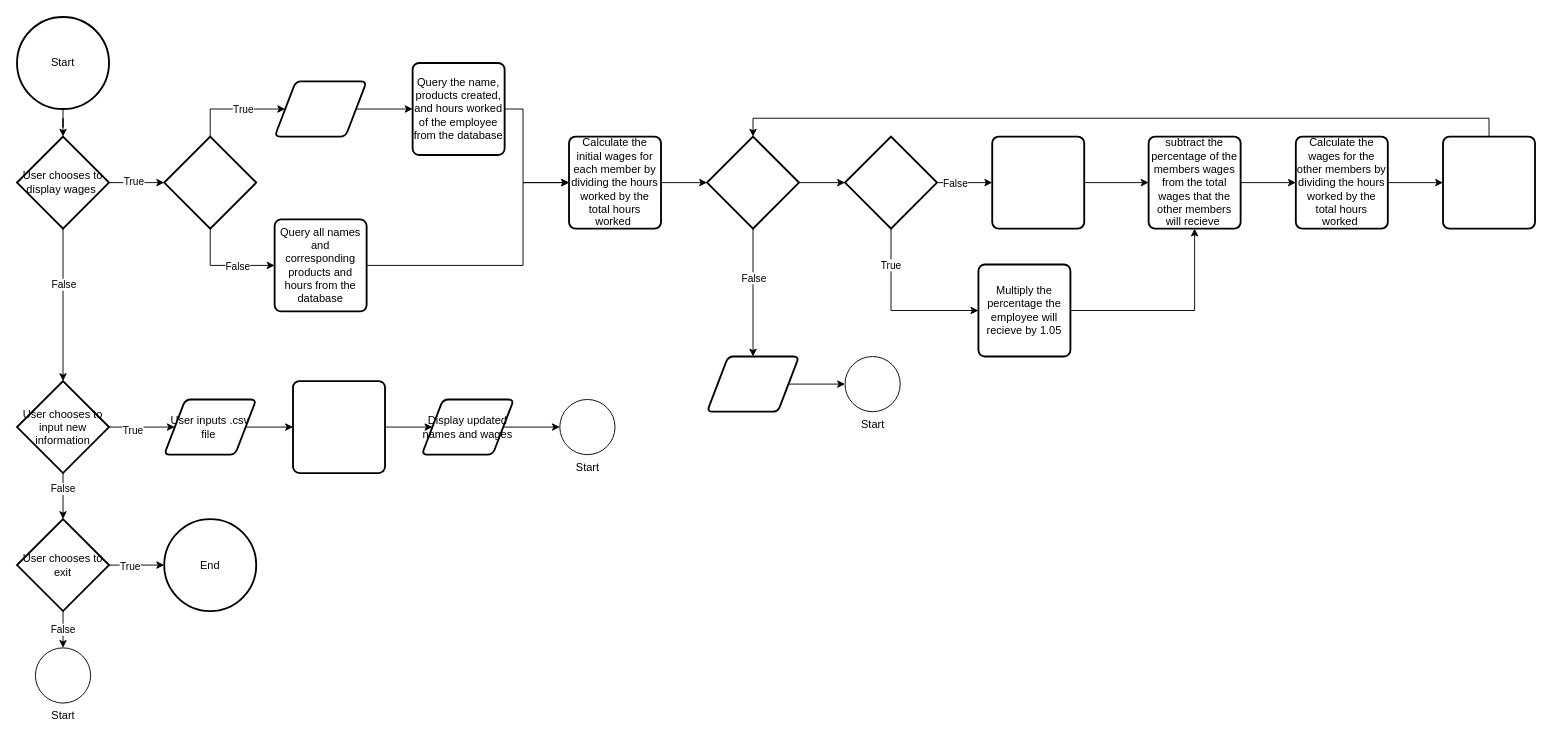
Image size: 1551x738. Some labels were removed from this diagram. The box of each missing label's shape, as (x1, y1, x2, y2) in pixels:
Display names and wages: (706, 355, 799, 412)
Hours worked is overtime hours: (844, 135, 937, 229)
Hours worked or product created/sold >= 20: (706, 135, 799, 229)
Multiply the percentage the employee will recieve by 1.02: (991, 135, 1085, 229)
Replace database with new information: (292, 380, 385, 474)
subtract 20 from the hours worked or product: (1442, 135, 1535, 229)
User chooses to filter employee wages: (163, 135, 257, 229)
User inputs name of employee to filter: (273, 80, 367, 137)
